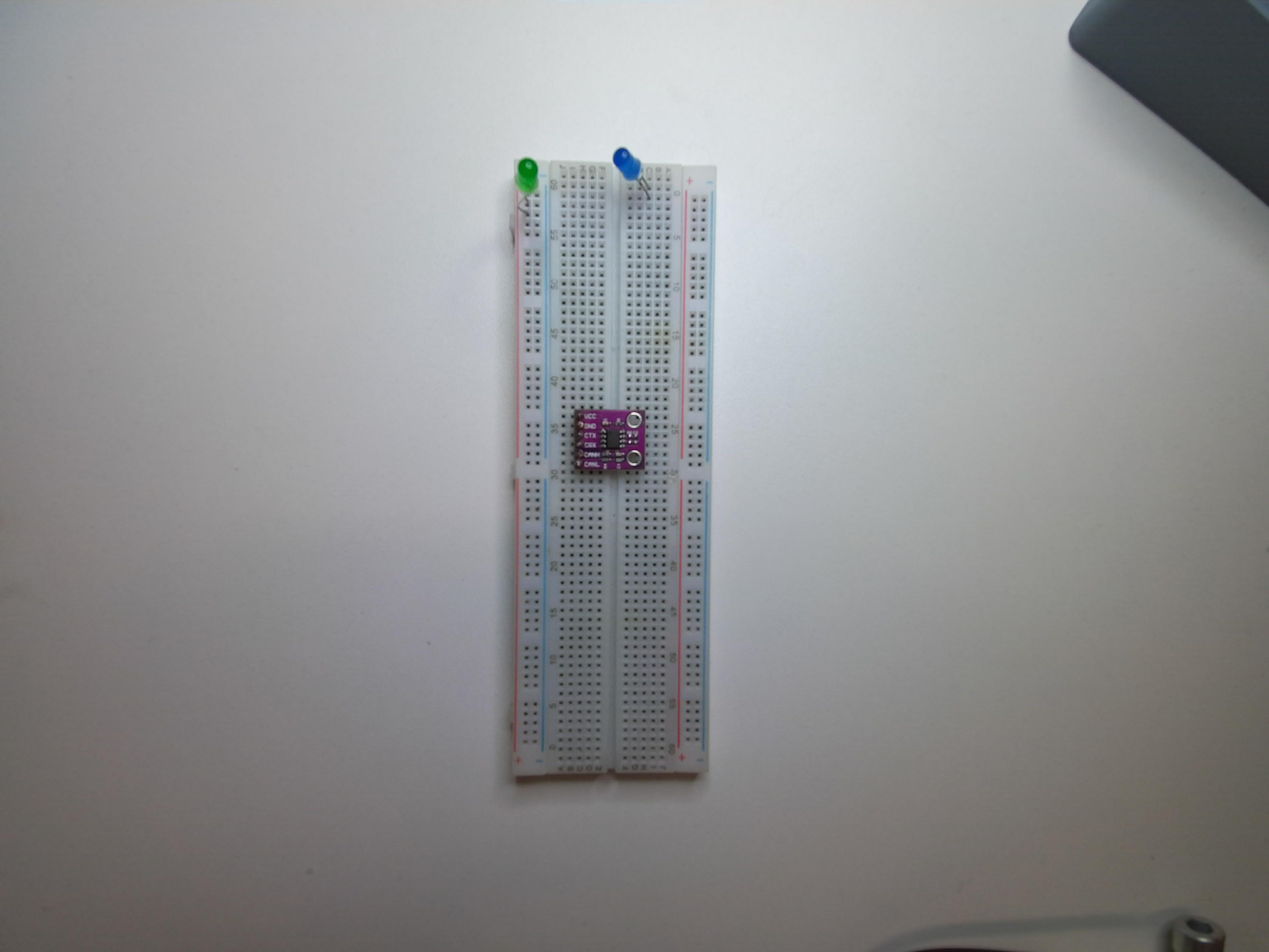base: (506, 150, 720, 788)
blue-led: (609, 144, 650, 191)
green-led: (511, 154, 547, 198)
purple-board: (569, 405, 646, 475)
